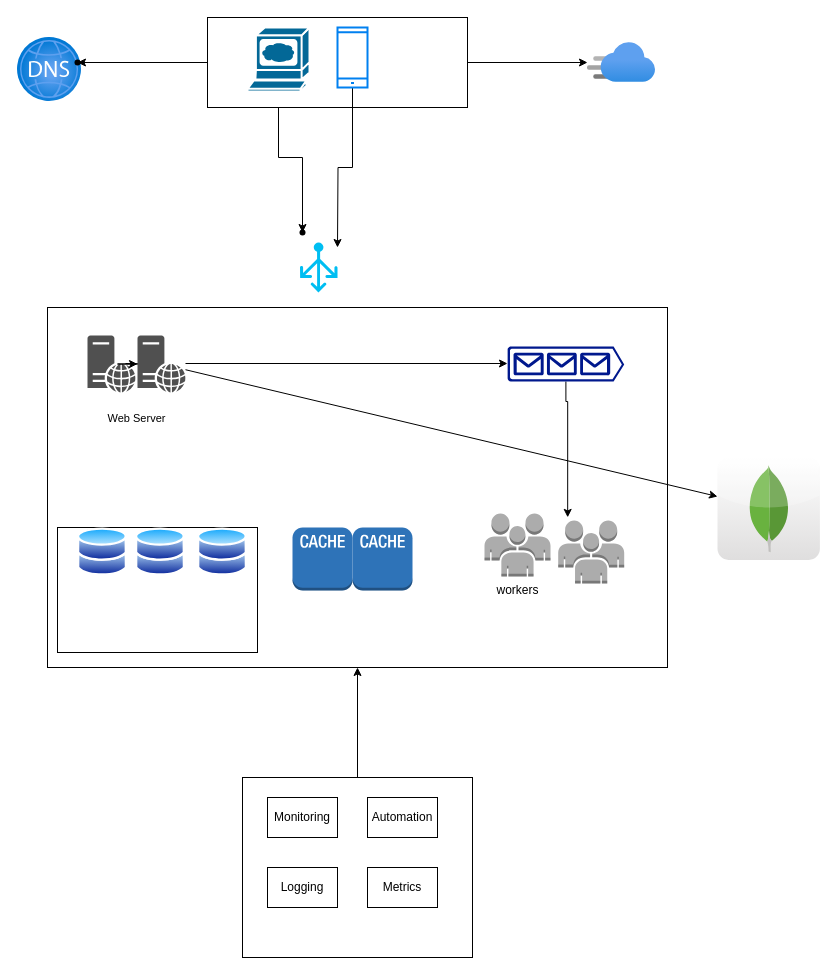
Some shapes in this 837 by 975 pixel diagram are drawn without their labels. The box of each missing label's shape, as (x1, y1, x2, y2) in pixels:
Database Sharing: (56, 526, 258, 652)
User: (206, 16, 468, 108)
